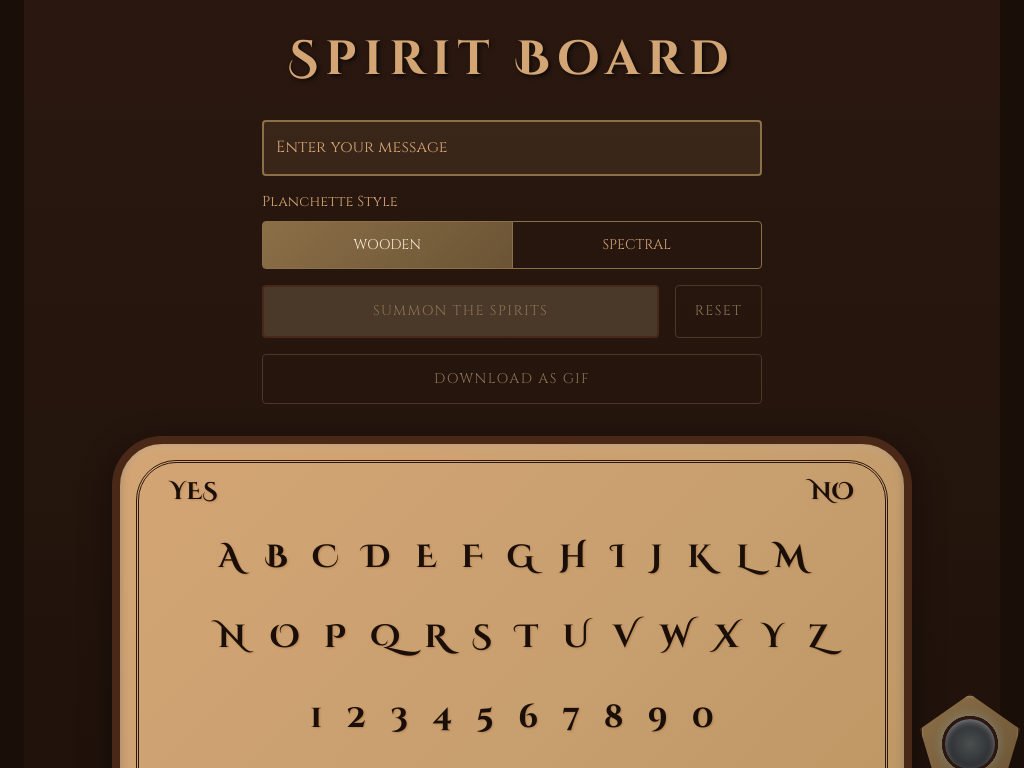
Test: Ouija Page › reset button clears the message input
Type "Hello" into the field labelled "Enter your message". click: point(512, 148)
box: [262, 120, 762, 176]
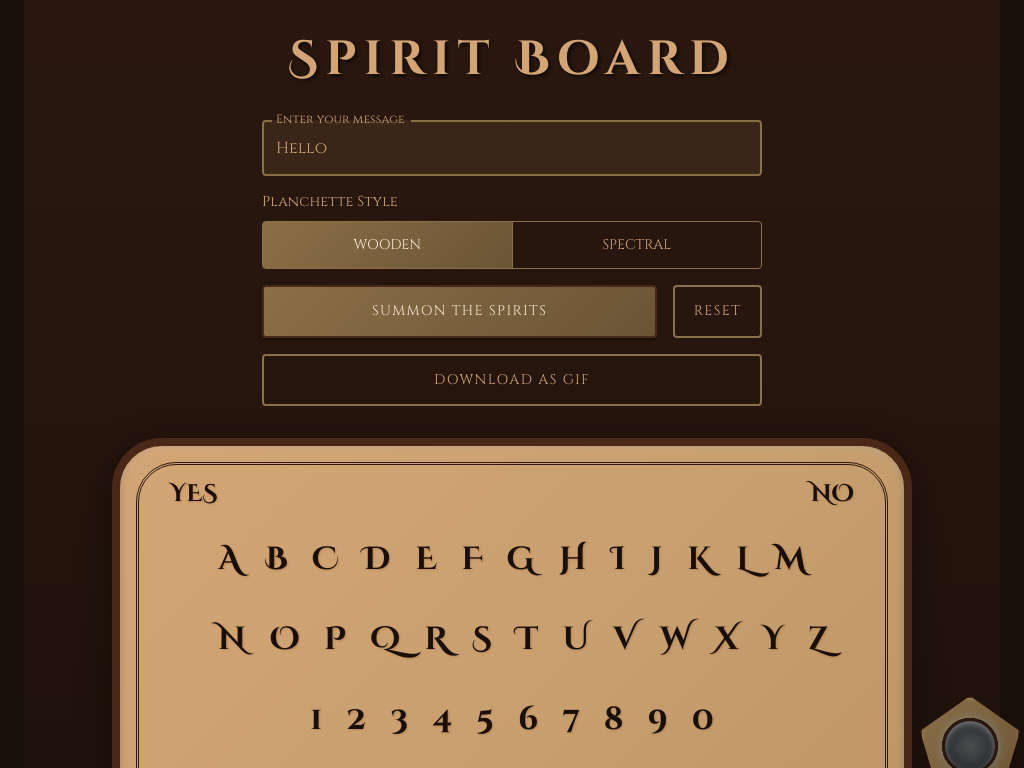
Click the button "Reset". click: point(718, 311)
box: [673, 285, 762, 338]
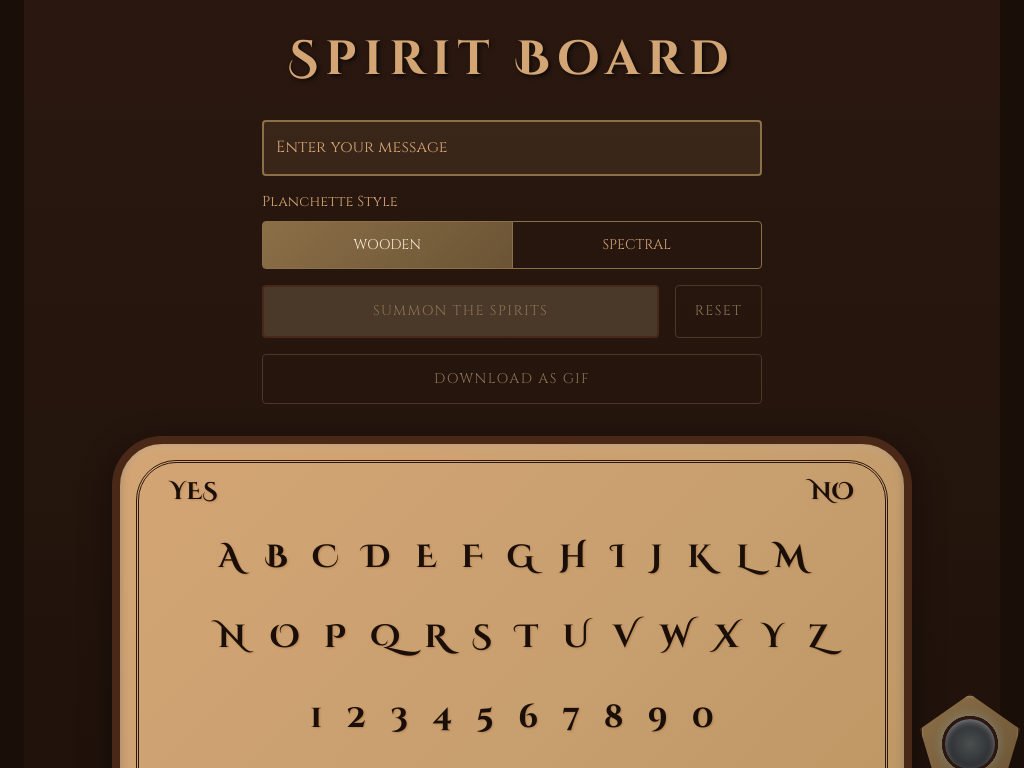
Now the field labelled "Enter your message" is empty, box [262, 120, 762, 176]
